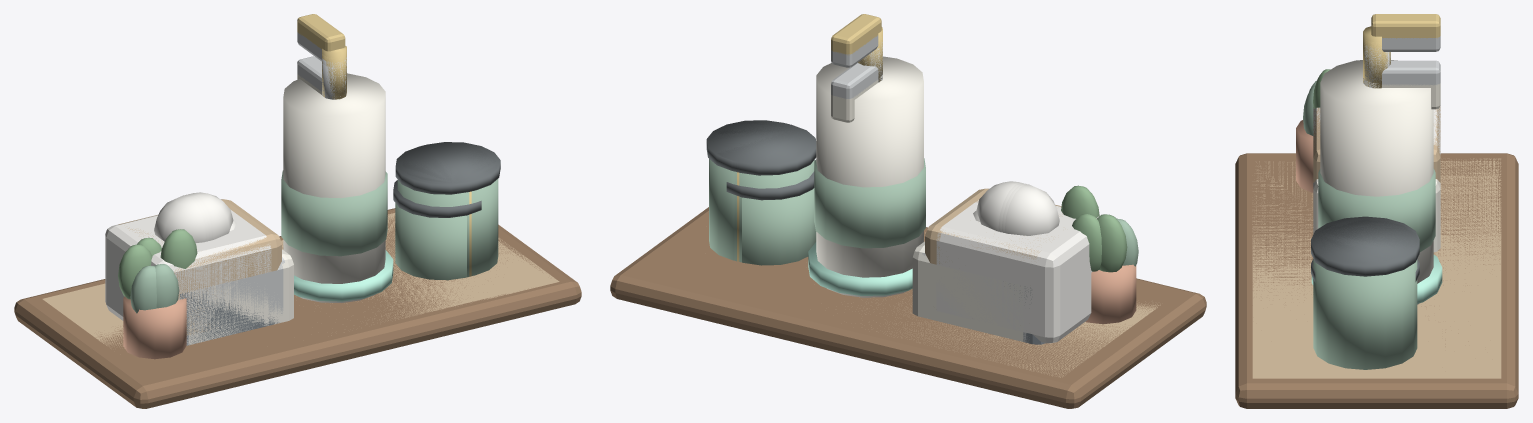
Rendered from Gear06.fbx.
3 views of the same model, side by side, from view 1: azimuth 30°, elevation 25°; view 2: azimuth 150°, elevation 25°; view 3: azimuth 270°, elevation 25° (orthographic). The views are drawn at different scales.
Visible parts, largest first — view 1: Gear06_V10_Walnut, Gear06_V10_Linen, Gear06_V9_Walnut, Gear06_V7_Oak, Gear06_V10_Sage, Gear06_V10_Quartz, Gear06_V6_Sage, Gear06_V3_Linen, Gear06_V10_Terracotta, Gear06_V10_Charcoal, Gear06_V6_Graphite, Gear06_V10_Leaf (+14 smaller); view 2: Gear06_V10_Walnut, Gear06_V10_Linen, Gear06_V10_Quartz, Gear06_V10_Sage, Gear06_V3_Linen, Gear06_V7_Oak, Gear06_V6_Sage, Gear06_V10_Leaf, Gear06_V9_Quartz, Gear06_V10_Charcoal, Gear06_V10_Terracotta, Gear06_V8_Charcoal (+11 smaller); view 3: Gear06_V10_Walnut, Gear06_V8_Oak, Gear06_V10_Sage, Gear06_V10_Linen, Gear06_V7_Oak, Gear06_V10_Charcoal, Gear06_V9_Walnut, Gear06_V10_Brass, Gear06_V7_Charcoal, Gear06_V9_Charcoal, Gear06_V6_BrushedSteel, Gear06_V10_Terracotta (+8 smaller).
Part boxes in pixels (bbox=[...]): Gear06_V10_Walnut: bbox=[14, 208, 581, 408]; Gear06_V10_Linen: bbox=[283, 73, 385, 302]; Gear06_V9_Walnut: bbox=[63, 210, 564, 383]; Gear06_V7_Oak: bbox=[42, 199, 553, 348]; Gear06_V10_Sage: bbox=[130, 170, 498, 313]; Gear06_V10_Quartz: bbox=[105, 213, 266, 333]; Gear06_V6_Sage: bbox=[395, 203, 466, 280]; Gear06_V3_Linen: bbox=[188, 249, 293, 345]; Gear06_V10_Terracotta: bbox=[123, 296, 186, 359]; Gear06_V10_Charcoal: bbox=[402, 142, 500, 190]; Gear06_V6_Graphite: bbox=[180, 290, 279, 345]; Gear06_V10_Leaf: bbox=[118, 229, 197, 299]; Gear06_V10_Walnut: bbox=[610, 207, 1206, 408]; Gear06_V10_Linen: bbox=[816, 56, 923, 297]; Gear06_V10_Quartz: bbox=[939, 206, 1098, 343]; Gear06_V10_Sage: bbox=[709, 158, 1138, 266]; Gear06_V3_Linen: bbox=[912, 241, 1023, 341]; Gear06_V7_Oak: bbox=[851, 188, 1160, 377]; Gear06_V6_Sage: bbox=[742, 188, 816, 265]; Gear06_V10_Leaf: bbox=[1061, 185, 1127, 272]; Gear06_V9_Quartz: bbox=[936, 200, 1067, 319]; Gear06_V10_Charcoal: bbox=[706, 120, 809, 171]; Gear06_V10_Terracotta: bbox=[1085, 264, 1136, 324]; Gear06_V8_Charcoal: bbox=[716, 122, 814, 172]; Gear06_V10_Walnut: bbox=[1235, 153, 1518, 408]; Gear06_V8_Oak: bbox=[1252, 108, 1501, 378]; Gear06_V10_Sage: bbox=[1303, 80, 1435, 369]; Gear06_V10_Linen: bbox=[1320, 60, 1433, 304]; Gear06_V7_Oak: bbox=[1255, 107, 1498, 288]; Gear06_V10_Charcoal: bbox=[1311, 220, 1419, 276]; Gear06_V9_Walnut: bbox=[1249, 156, 1504, 380]; Gear06_V10_Brass: bbox=[1363, 14, 1440, 88]; Gear06_V7_Charcoal: bbox=[1311, 216, 1419, 260]; Gear06_V9_Charcoal: bbox=[1311, 219, 1419, 259]; Gear06_V6_BrushedSteel: bbox=[1363, 60, 1440, 88]; Gear06_V10_Terracotta: bbox=[1296, 120, 1313, 192].
Size of the model in its own units: 49 by 28.21 by 24.5.
